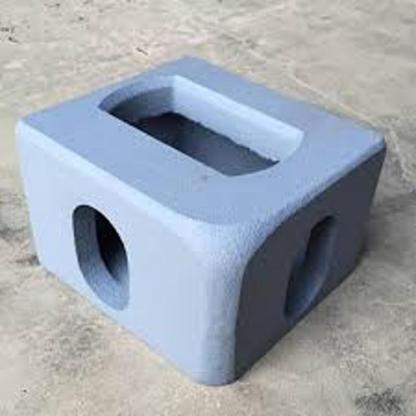CornerCasting: (17, 48, 390, 390)
